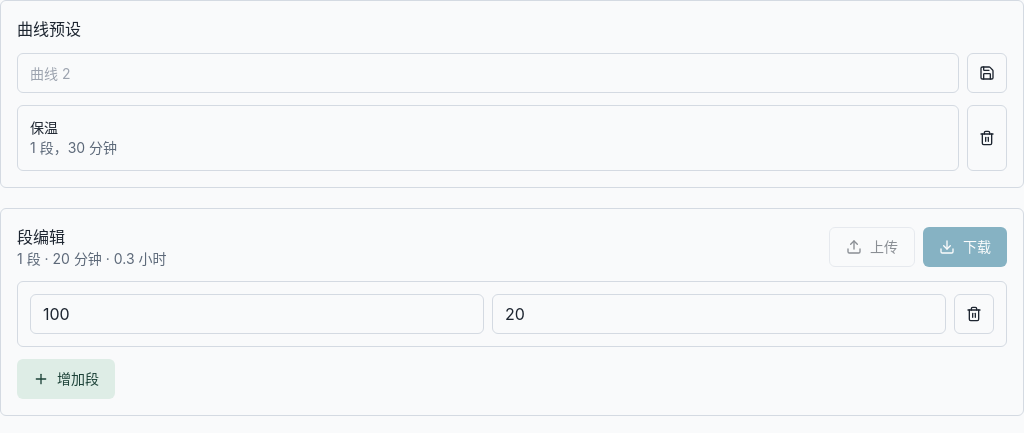
Test: CurvesPanel › loads a preset into the editor
Click the button "保温 1 段，30 分钟" at {"x": 74, "y": 148}, box [17,105,959,171]
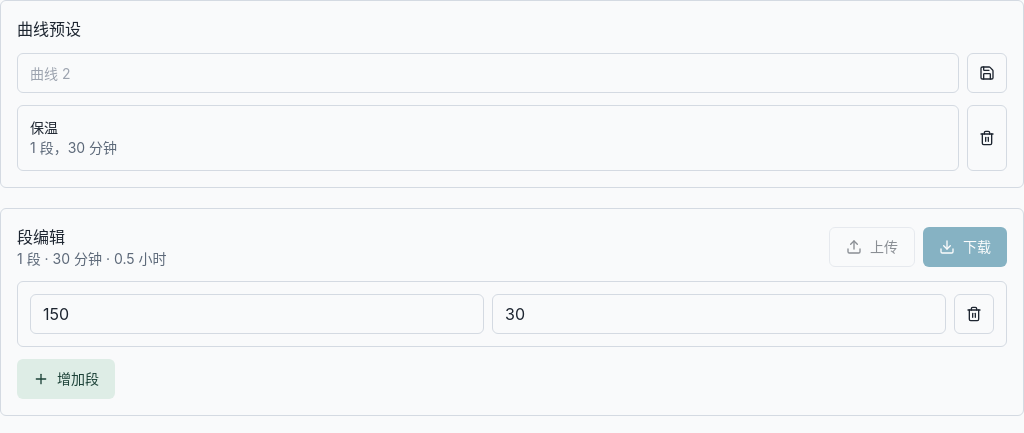
Expected: the number field named "第 1 段温度 (℃)" holds "150", [30,294,484,334]
